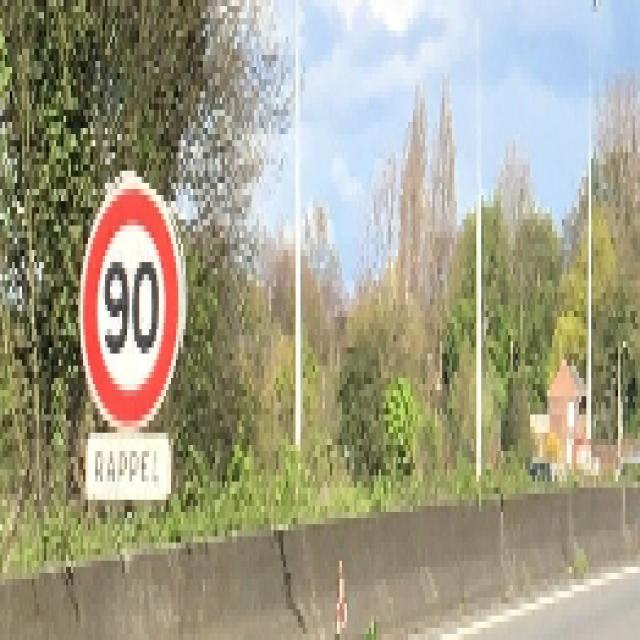speed_90: (80, 176, 186, 426)
